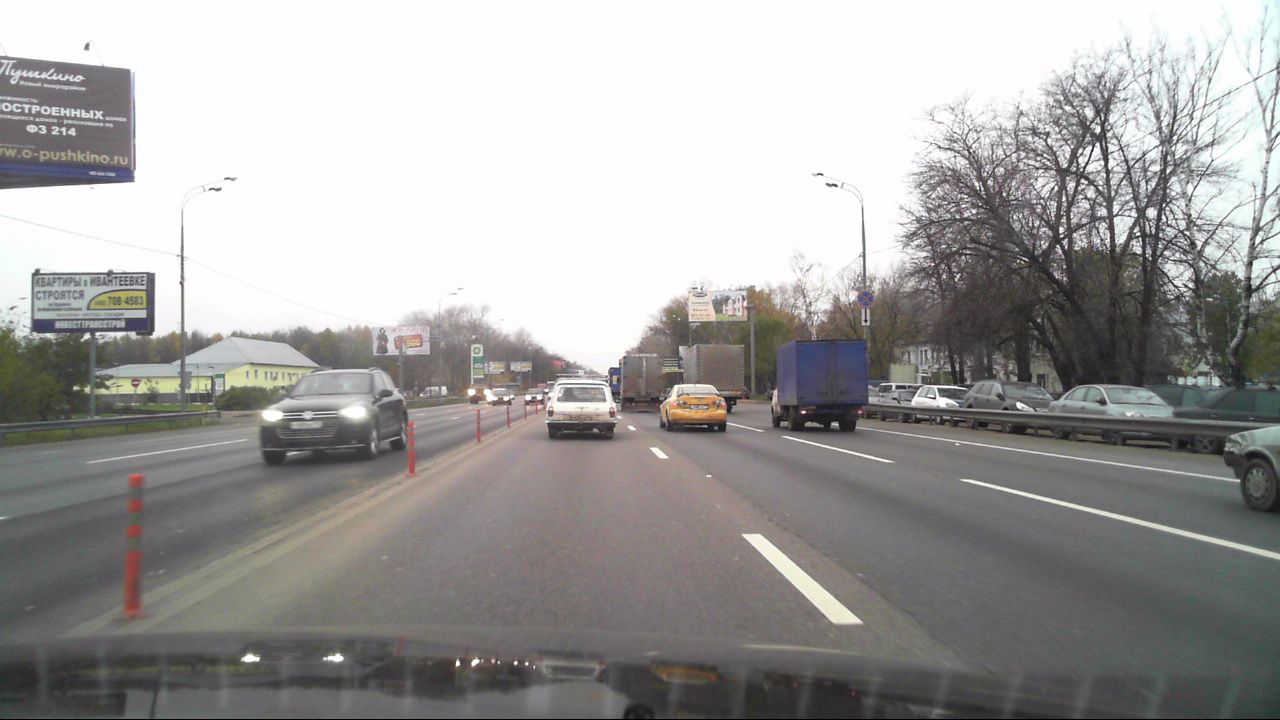No Parking: (856, 290, 873, 308)
